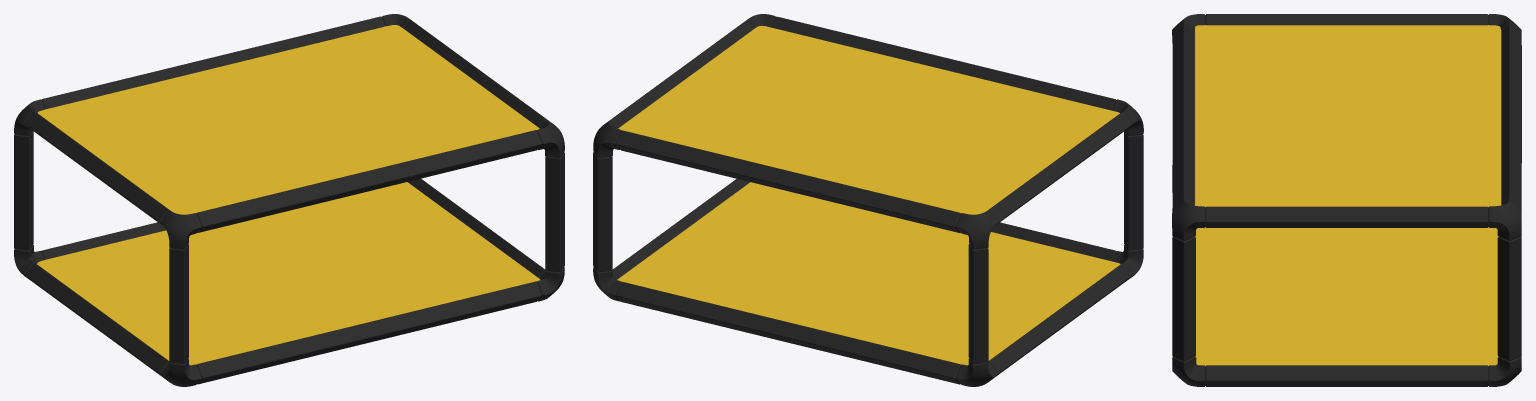
3 renders of one model, left to right at view 1: azimuth 30°, elevation 25°; view 2: azimuth 150°, elevation 25°; view 3: azimuth 270°, elevation 25°, orthographic. The views are drawn at different scales.
Visible parts, largest first — view 1: 479x329x154; view 2: 479x329x154; view 3: 479x329x154.
Boxes of the visible parts, box(x1,y1,x2,y2) form: 479x329x154: box(14, 14, 564, 386); 479x329x154: box(593, 14, 1143, 386); 479x329x154: box(1172, 14, 1521, 386).
Bounding box in the file's own units: 0.5567 × 0.2316 × 0.4063.
